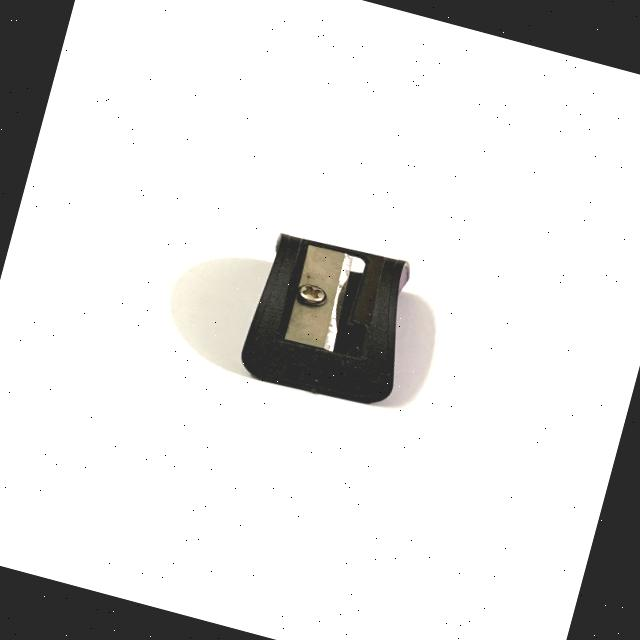Sharpner: (198, 193, 472, 432)
